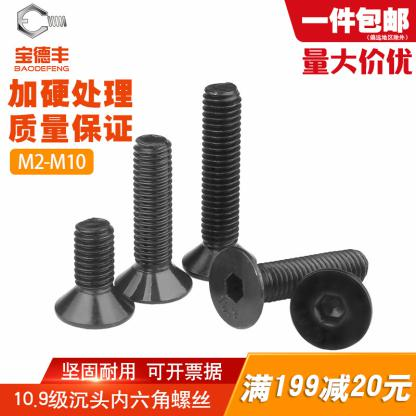FOD: (180, 80, 258, 284), (206, 241, 371, 332), (112, 131, 195, 308), (52, 217, 136, 331), (288, 266, 374, 350)
